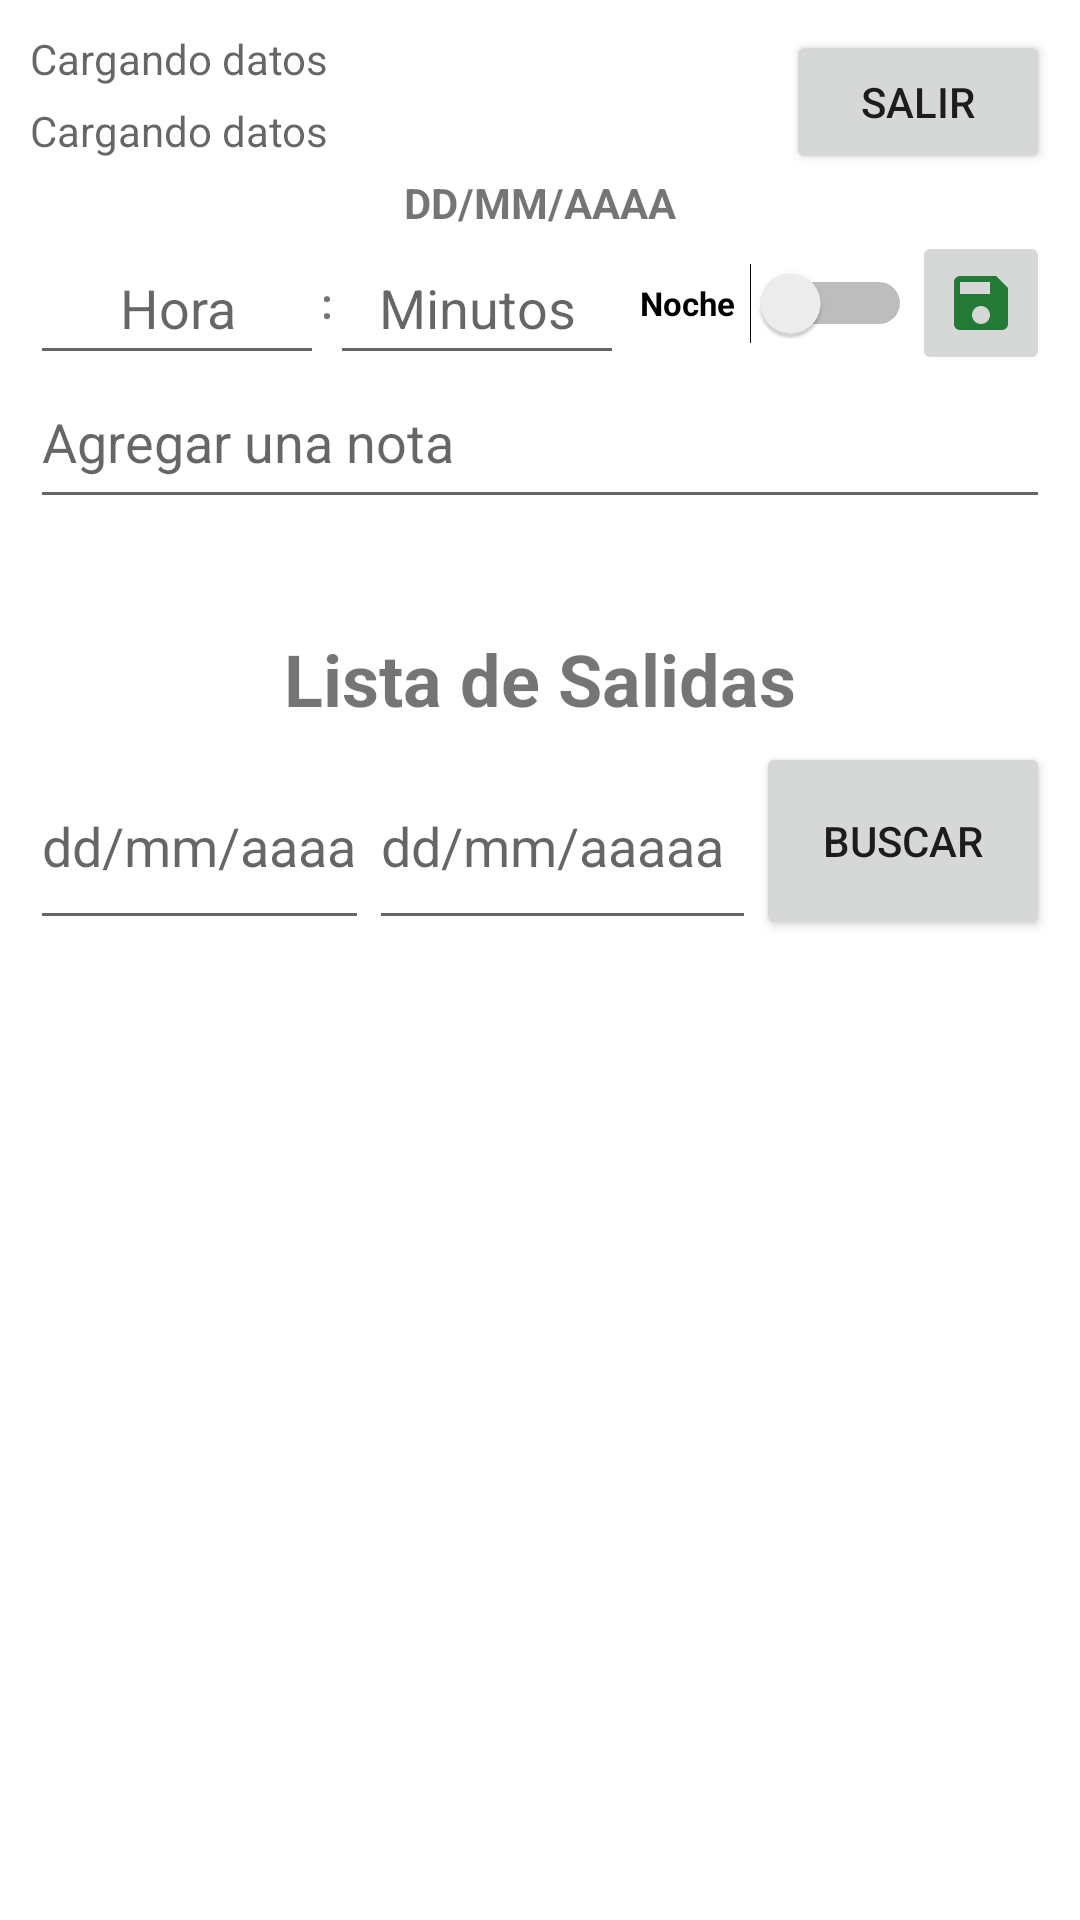

Where icons sit on this 1080 x 1920 app screen, as region(x1, y1, x2, y2):
save: region(924, 249, 1038, 357)
